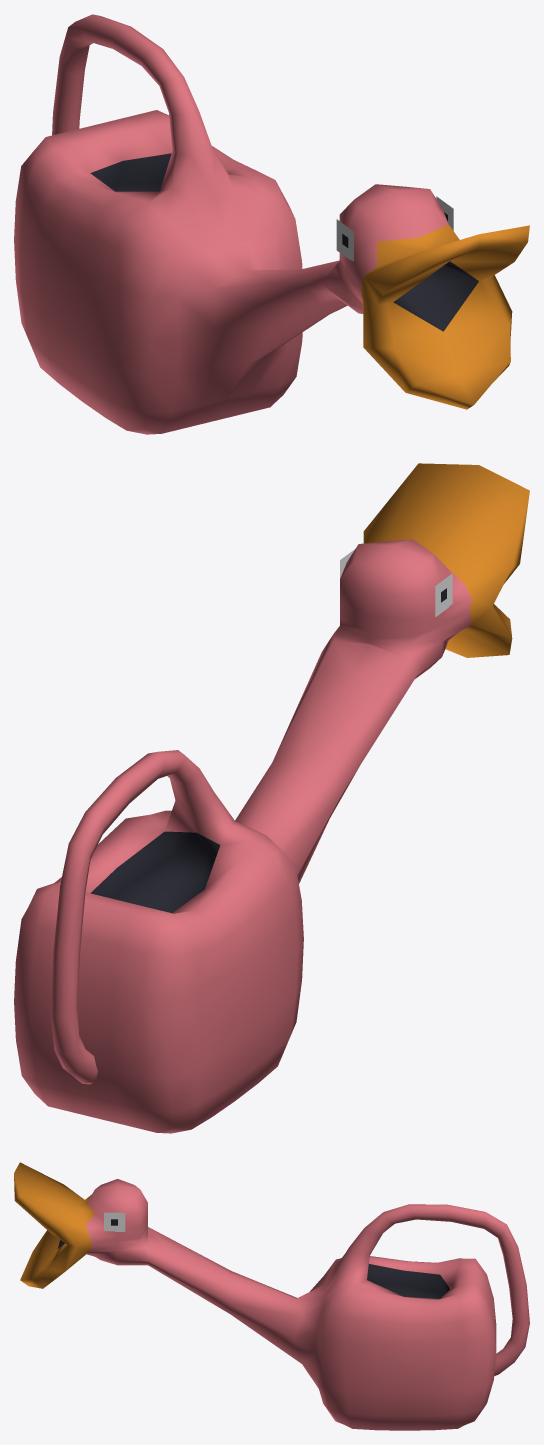
File: Snook.fbx
3 renders of one model, top to bottom at view 1: azimuth 30°, elevation 25°; view 2: azimuth 150°, elevation 25°; view 3: azimuth 270°, elevation 25°, orthographic. The views are drawn at different scales.
Visible parts, largest first — view 1: Watering Duck, DuckEyes; view 2: Watering Duck; view 3: Watering Duck, DuckEyes.
Boxes of the visible parts, bbox=[...] form: Watering Duck: bbox=[14, 14, 529, 434]; DuckEyes: bbox=[336, 196, 453, 261]; Watering Duck: bbox=[14, 463, 529, 1133]; Watering Duck: bbox=[14, 1162, 529, 1430]; DuckEyes: bbox=[104, 1212, 125, 1231].
Bounding box in the file's own units: 11.27 × 21.67 × 42.18.
